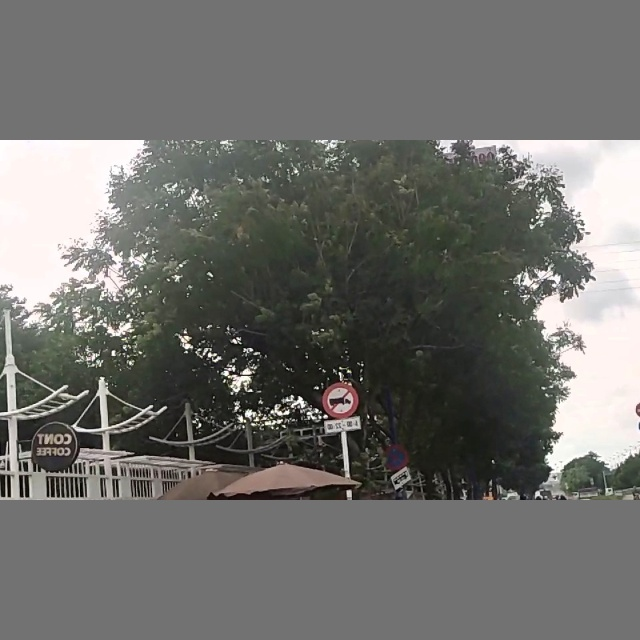B.8a: (325, 383, 359, 433)
